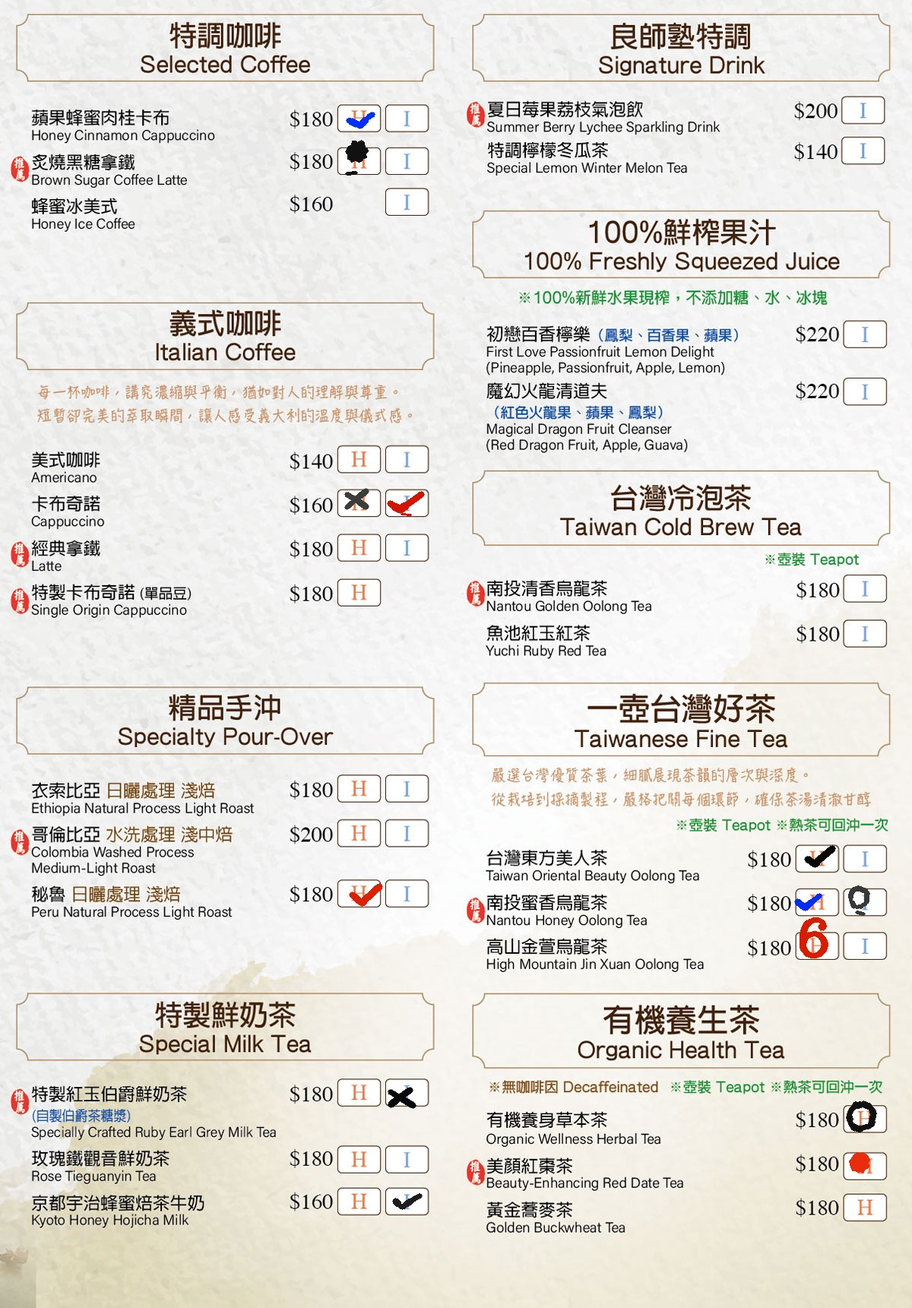marked_circle: (342, 149, 381, 173), (846, 1153, 885, 1177)
marked_hollow: (844, 890, 883, 914), (846, 1106, 885, 1129)
marked_number_6: (798, 933, 837, 956)
marked_tick: (338, 879, 377, 903), (796, 845, 835, 869), (388, 491, 426, 515), (799, 892, 838, 915), (387, 1189, 426, 1212), (339, 106, 378, 129)
marked_x: (339, 489, 378, 513), (391, 1081, 429, 1104)
